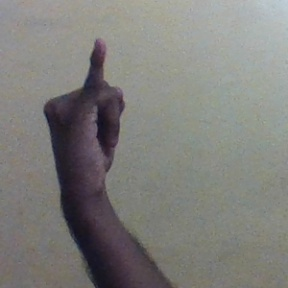I: (41, 35, 127, 179)
